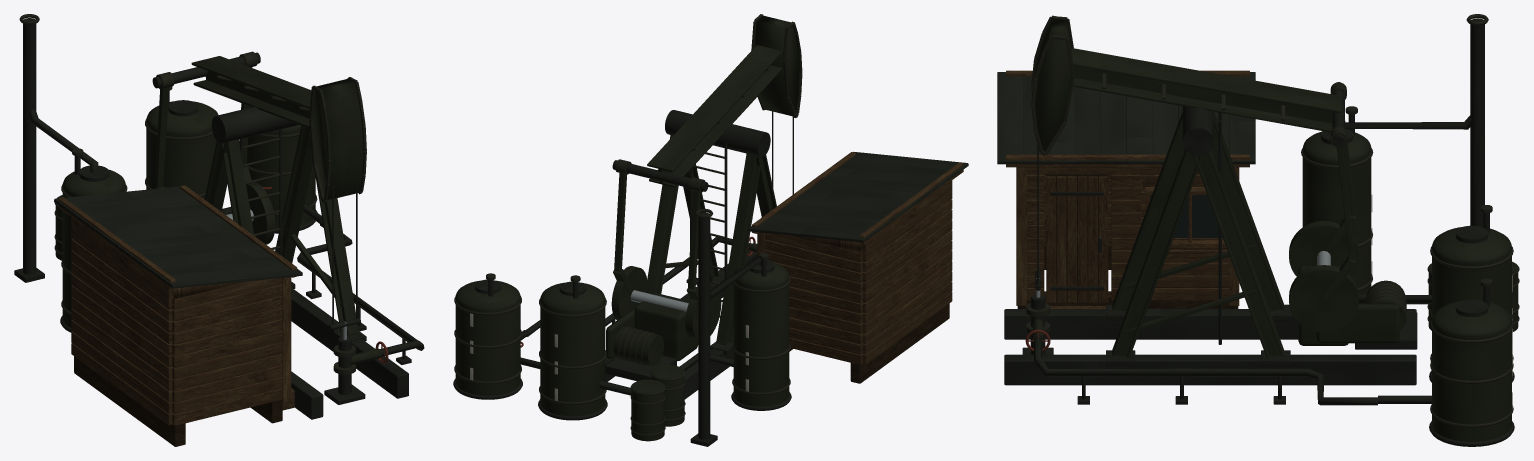
Rendered from crude_oil.glb.
3 renders of one model, left to right at view 1: azimuth 30°, elevation 25°; view 2: azimuth 150°, elevation 25°; view 3: azimuth 270°, elevation 25°, orthographic. The views are drawn at different scales.
Visible parts, largest first — view 1: Oil plant steel; view 2: Oil plant steel; view 3: Oil plant steel.
Boxes of the visible parts, bbox=[...] form: Oil plant steel: bbox=[14, 14, 424, 446]; Oil plant steel: bbox=[453, 14, 968, 446]; Oil plant steel: bbox=[997, 14, 1519, 446].
Bounding box in the file's own units: 1.73 × 1.41 × 2.
11 materials, 7 textured.
